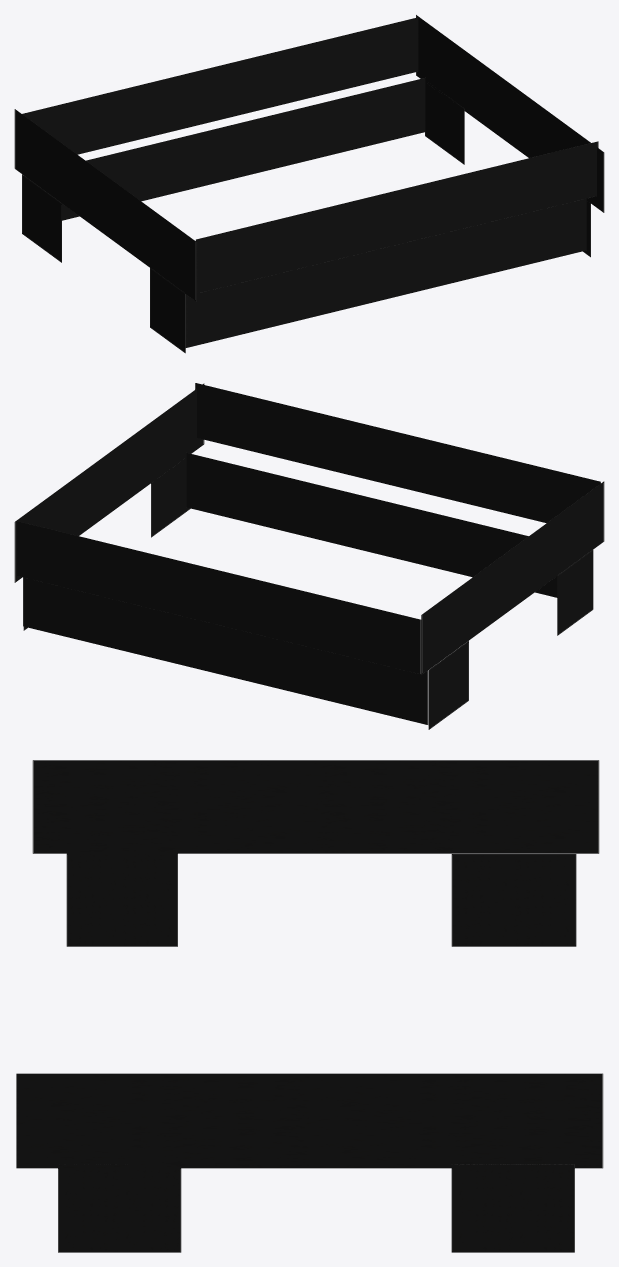
File: Outerwalls.fbx
The picture shows the model from 3 angles, top to bottom: view 1: azimuth 30°, elevation 25°; view 2: azimuth 150°, elevation 25°; view 3: azimuth 270°, elevation 25°; orthographic projection. The views are drawn at different scales.
Visible parts, largest first — view 1: OuterWall3, OuterWall1, OuterWall2, OuterWall, HallwayWall5, HallwayWall3, HallwayWall1, HallwayWall4, HallwayWall; view 2: OuterWall2, OuterWall3, OuterWall, OuterWall1, HallwayWall5, HallwayWall3, HallwayWall1, HallwayWall, HallwayWall6; view 3: HallwayWall3, HallwayWall5, HallwayWall1, HallwayWall4, HallwayWall6, HallwayWall.
Boxes of the visible parts, box(x1,y1,x2,y2) form: OuterWall3: box(195, 141, 598, 293); OuterWall1: box(185, 198, 586, 347); OuterWall2: box(22, 17, 418, 154); OuterWall: box(47, 78, 425, 220); HallwayWall5: box(14, 109, 196, 301); HallwayWall3: box(416, 15, 604, 212); HallwayWall1: box(22, 174, 61, 262); HallwayWall4: box(425, 82, 464, 164); HallwayWall: box(150, 268, 185, 353); OuterWall2: box(17, 521, 421, 674); OuterWall3: box(195, 383, 600, 523); OuterWall: box(23, 577, 428, 724); OuterWall1: box(186, 453, 557, 597); HallwayWall5: box(421, 481, 604, 674); HallwayWall3: box(14, 383, 204, 582); HallwayWall1: box(428, 641, 468, 729); HallwayWall: box(557, 549, 593, 635); HallwayWall6: box(151, 457, 190, 537); HallwayWall3: box(16, 1073, 603, 1168); HallwayWall5: box(32, 760, 599, 853); HallwayWall1: box(451, 854, 576, 946); HallwayWall4: box(451, 1164, 574, 1252); HallwayWall6: box(58, 1165, 181, 1252); HallwayWall: box(66, 853, 177, 946).
Bounding box in the file's own units: 120 × 34.09 × 97.33.
Materials: 1 (1 with a texture image).
